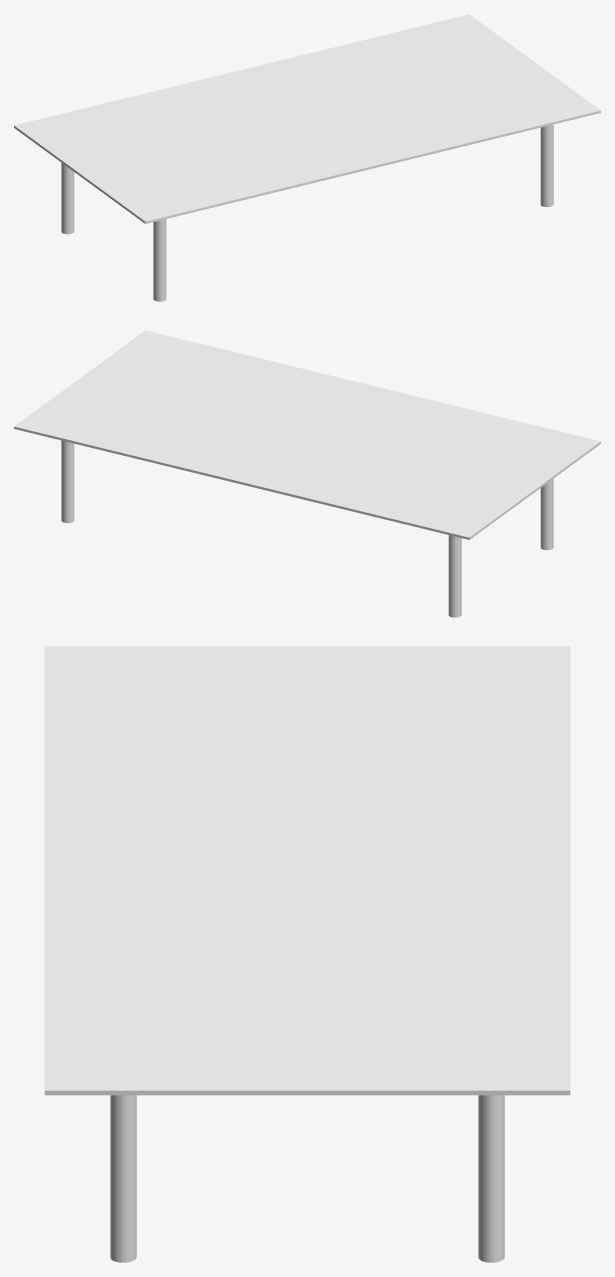
Rendered from MesaG.obj.
3 views of the same model, one above another, from view 1: azimuth 30°, elevation 25°; view 2: azimuth 150°, elevation 25°; view 3: azimuth 270°, elevation 25° (orthographic). The views are drawn at different scales.
Parts seen in each view (by area): view 1: Cilindro.002_Material.002, Cilindro.002_Material.001; view 2: Cilindro.002_Material.002, Cilindro.002_Material.001; view 3: Cilindro.002_Material.002, Cilindro.002_Material.001.
Boxes of the visible parts, x1,y1,x2,y2 form: Cilindro.002_Material.002: (14,14,600,223); Cilindro.002_Material.001: (61,124,553,301); Cilindro.002_Material.002: (14,330,600,539); Cilindro.002_Material.001: (61,440,553,617); Cilindro.002_Material.002: (44,646,570,1095); Cilindro.002_Material.001: (110,1095,504,1262).
Size of the model in its own units: 4 by 0.8387 by 2.
2 materials, 2 textured.
